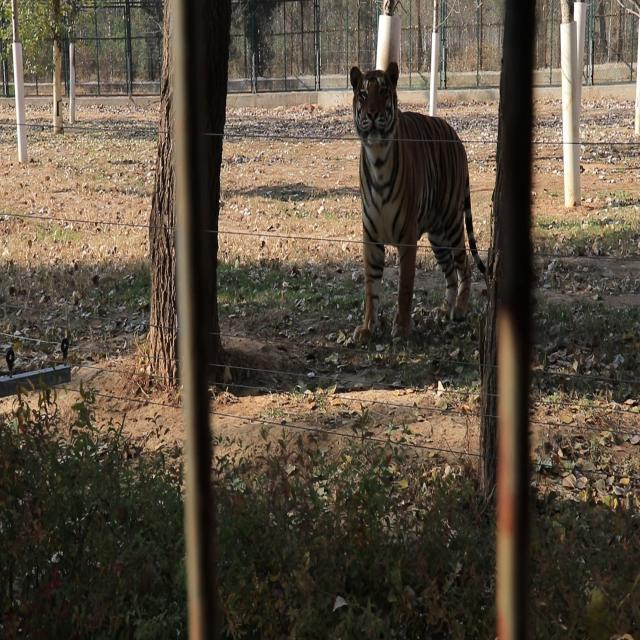Tiger: (339, 51, 488, 338)
